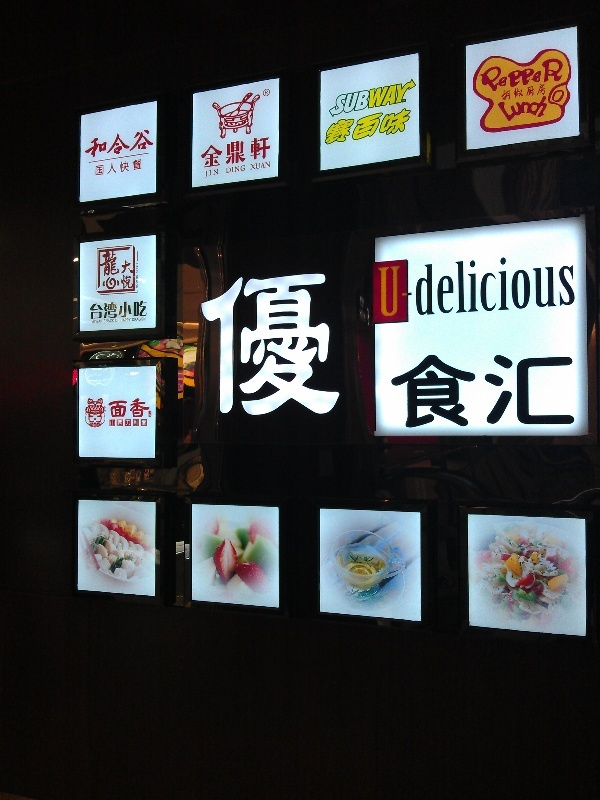text: (209, 273, 224, 417), (225, 273, 240, 417), (241, 273, 256, 417), (257, 273, 272, 417), (273, 273, 288, 417), (289, 273, 304, 417), (305, 273, 320, 417), (321, 273, 336, 417), (199, 273, 208, 417), (401, 353, 416, 429), (417, 353, 432, 429), (433, 353, 448, 429), (449, 353, 464, 429), (465, 353, 480, 429), (481, 353, 496, 429), (497, 353, 512, 429), (513, 353, 528, 429), (529, 353, 544, 429), (545, 353, 560, 429), (561, 353, 576, 429), (417, 253, 432, 317), (433, 253, 448, 317), (449, 253, 464, 317), (465, 253, 480, 317), (481, 253, 496, 317), (497, 253, 512, 317), (513, 253, 528, 317), (529, 253, 544, 317), (545, 253, 560, 317), (561, 253, 576, 317), (385, 265, 401, 318), (337, 273, 342, 417), (391, 353, 400, 429), (401, 78, 417, 118), (337, 107, 352, 147), (353, 107, 368, 147), (369, 107, 384, 147), (385, 107, 400, 147), (337, 78, 352, 118), (353, 78, 368, 118), (369, 78, 384, 118), (385, 78, 400, 118), (481, 56, 496, 95), (497, 56, 512, 95), (513, 56, 528, 95), (529, 56, 544, 95), (545, 56, 560, 95), (99, 250, 112, 291), (209, 134, 224, 169), (225, 134, 240, 169), (241, 134, 256, 169), (257, 134, 272, 169), (324, 107, 336, 147), (401, 107, 413, 147), (97, 128, 112, 159), (113, 128, 128, 159), (129, 128, 144, 159), (497, 95, 512, 124), (513, 95, 528, 124), (529, 95, 544, 124), (377, 265, 384, 318), (85, 128, 96, 159), (113, 250, 121, 291), (328, 78, 336, 118), (113, 398, 128, 419), (129, 398, 144, 419), (145, 128, 155, 159), (97, 300, 112, 320), (113, 300, 128, 320), (129, 300, 144, 320), (513, 83, 528, 102), (529, 83, 544, 102), (97, 159, 112, 176), (113, 159, 128, 176), (201, 134, 208, 169), (120, 260, 128, 289), (500, 83, 512, 102), (129, 159, 142, 176), (561, 56, 566, 95), (413, 253, 416, 317), (545, 95, 551, 124), (129, 260, 134, 289), (257, 162, 273, 171), (226, 165, 240, 175), (90, 300, 96, 320), (136, 275, 144, 289), (209, 169, 220, 179), (145, 398, 150, 419), (401, 291, 416, 298), (113, 420, 128, 426), (129, 420, 144, 426), (136, 263, 144, 274), (108, 398, 112, 419), (478, 56, 480, 95), (145, 300, 148, 320), (241, 165, 247, 175), (545, 83, 548, 102), (250, 162, 256, 171), (132, 318, 144, 322), (204, 169, 208, 179), (104, 319, 112, 324), (115, 319, 128, 322), (97, 319, 104, 324), (265, 91, 272, 96), (121, 318, 128, 322), (92, 319, 96, 324), (109, 420, 112, 426), (145, 420, 148, 426), (95, 159, 96, 176), (113, 319, 115, 324), (129, 318, 131, 322), (145, 318, 147, 322)
